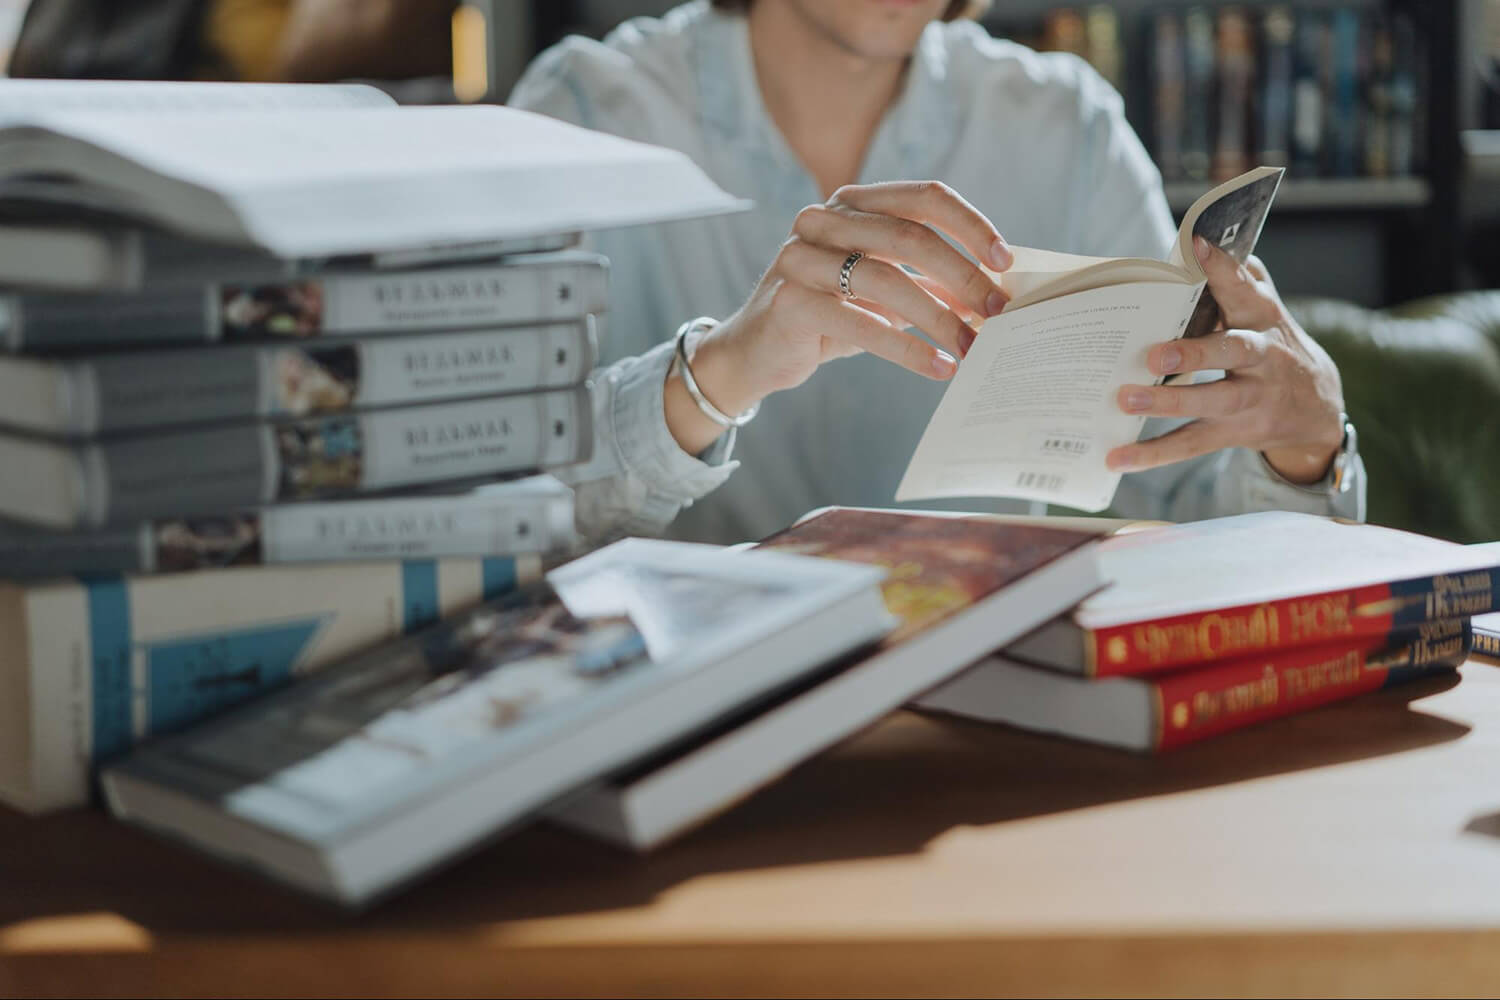Open Book: (2, 64, 758, 267), (900, 166, 1308, 533)
